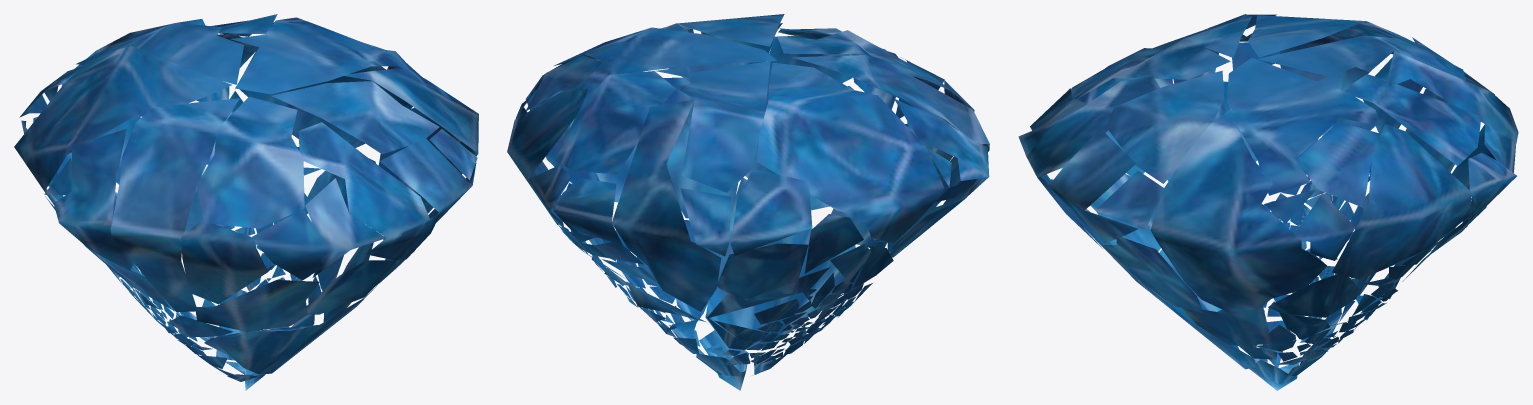
Rendered from diamond.glb.
3 views of the same model, side by side, from view 1: azimuth 30°, elevation 25°; view 2: azimuth 150°, elevation 25°; view 3: azimuth 270°, elevation 25° (orthographic). The views are drawn at different scales.
Parts seen in each view (by area): view 1: Mesh_0; view 2: Mesh_0; view 3: Mesh_0.
Boxes of the visible parts, <box> form: Mesh_0: <box>14,14,478,390</box>; Mesh_0: <box>507,14,989,390</box>; Mesh_0: <box>1018,14,1518,390</box>.
Size of the model in its own units: 0.2706 by 0.2 by 0.2708.
1 material, 1 textured.
